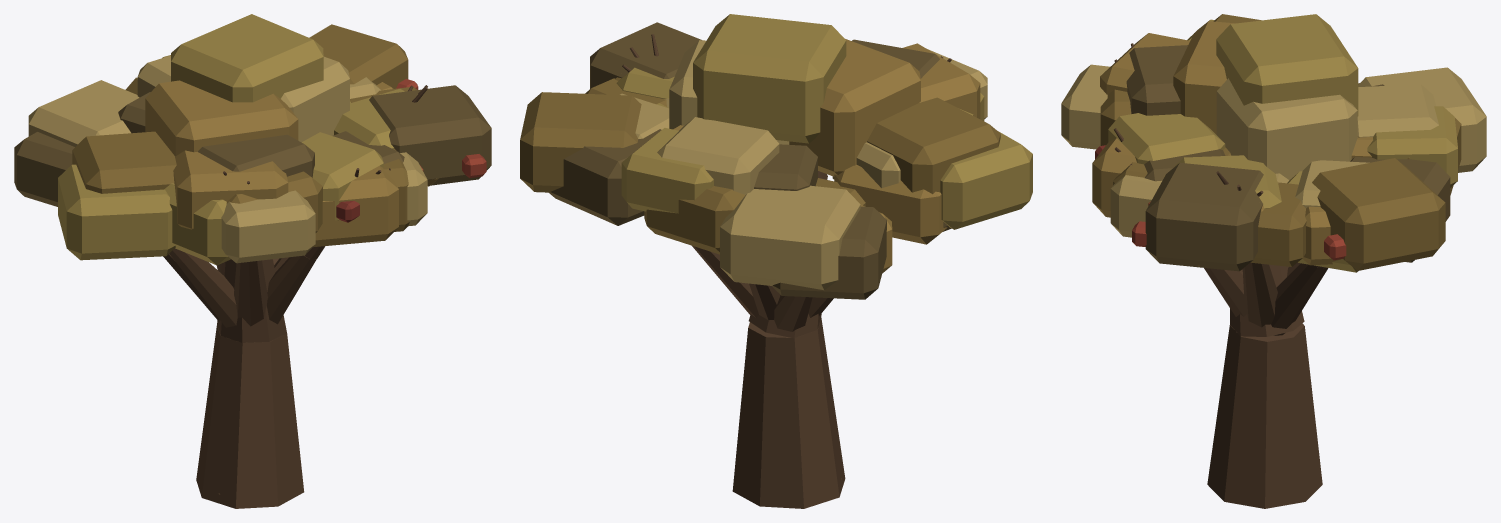
File: apple_mature_autumn_fruiting.glb
3 renders of one model, left to right at view 1: azimuth 30°, elevation 25°; view 2: azimuth 150°, elevation 25°; view 3: azimuth 270°, elevation 25°, orthographic. The views are drawn at different scales.
Parts seen in each view (by area): view 1: apple_mature_autumn_fruiting; view 2: apple_mature_autumn_fruiting; view 3: apple_mature_autumn_fruiting.
Boxes of the visible parts, x1,y1,x2,y2 form: apple_mature_autumn_fruiting: (14, 14, 491, 508); apple_mature_autumn_fruiting: (520, 14, 1032, 508); apple_mature_autumn_fruiting: (1061, 14, 1486, 508).
Bounding box in the file's own units: 11.9 × 12 × 10.33.
